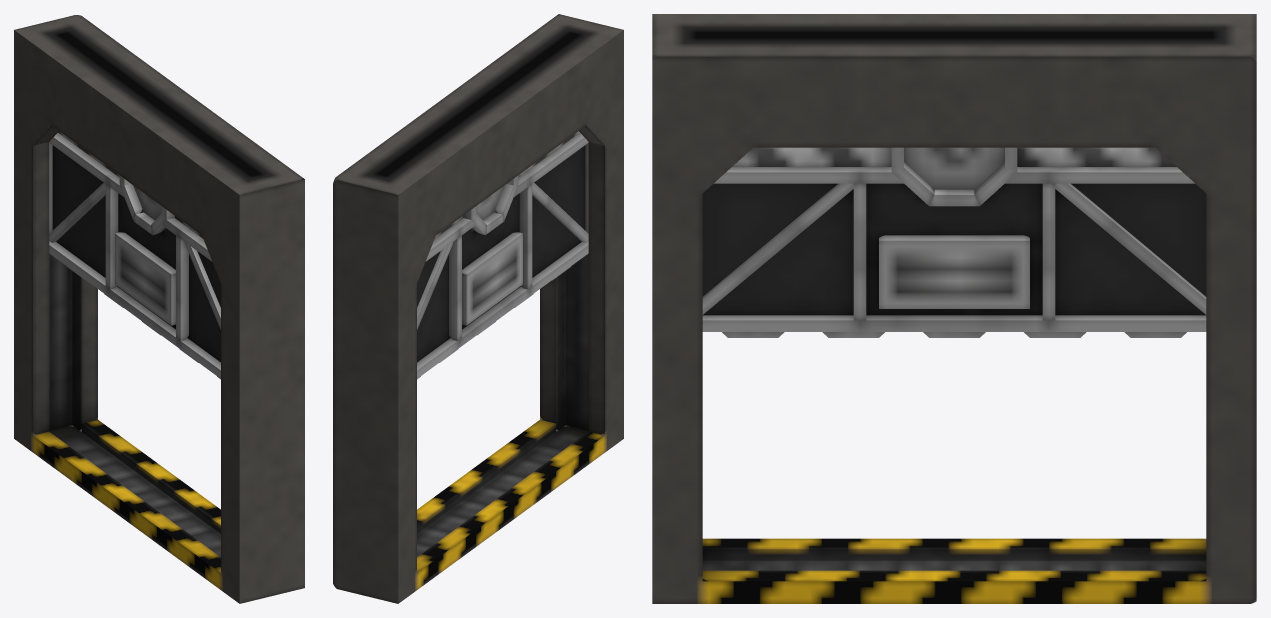
Rendered from qe_containment_93.obj.
The picture shows the model from 3 angles, left to right: view 1: azimuth 30°, elevation 25°; view 2: azimuth 150°, elevation 25°; view 3: azimuth 270°, elevation 25°; orthographic projection. The views are drawn at different scales.
Parts seen in each view (by area): view 1: Frame, Door; view 2: Frame, Door; view 3: Frame, Door.
Boxes of the visible parts, x1=… form: Frame: x1=14, y1=15, x2=304, y2=603; Door: x1=49, y1=131, x2=220, y2=379; Frame: x1=333, y1=14, x2=623, y2=603; Door: x1=417, y1=131, x2=588, y2=379; Frame: x1=652, y1=14, x2=1256, y2=603; Door: x1=702, y1=147, x2=1206, y2=337.
Size of the model in its own units: 0.5 by 3 by 3.
